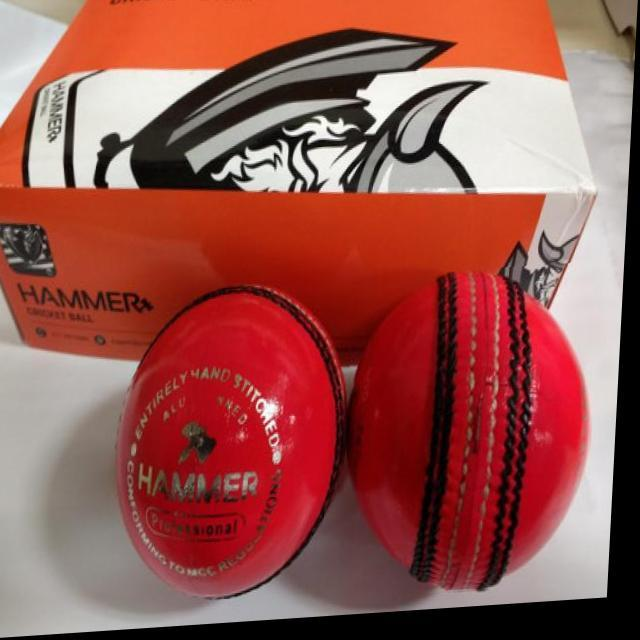cricket ball: (353, 277, 596, 599), (119, 287, 353, 602)
